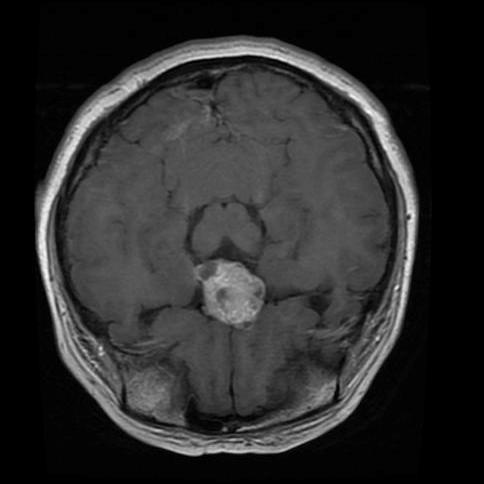Tumour-Pituitary: (193, 256, 269, 326)
